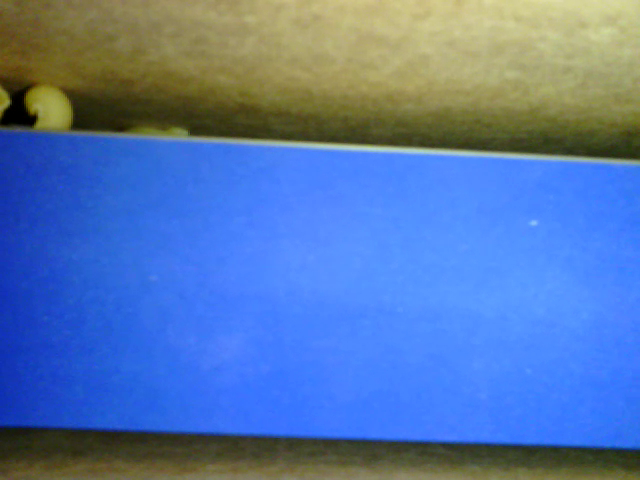shell: (25, 83, 75, 131)
